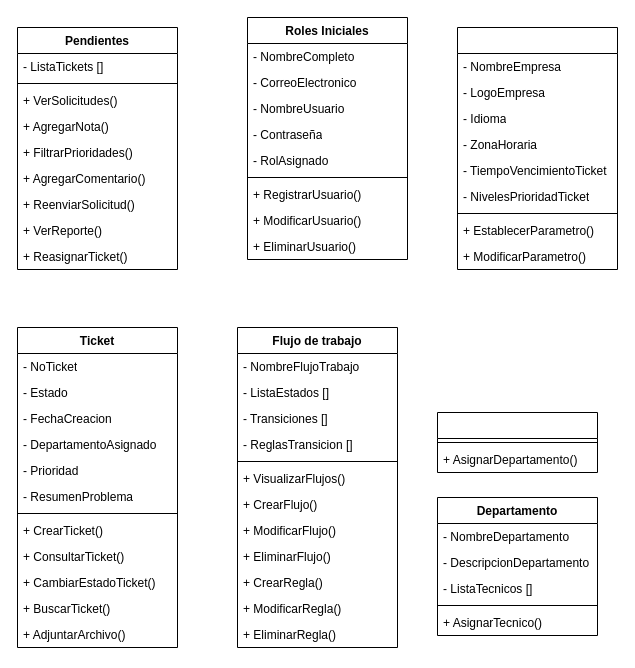
This 635x668 diagram has some shape labels left out. The shapes that lost their labels are listed below. From the top down, each one's box as (x1, y1, x2, y2) in pixels, then its label:
(456, 26, 618, 270): Parametros
(436, 412, 598, 472): Técnico
